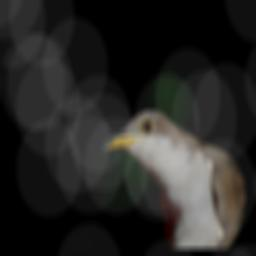Cuckoo: (98, 78, 247, 235)
